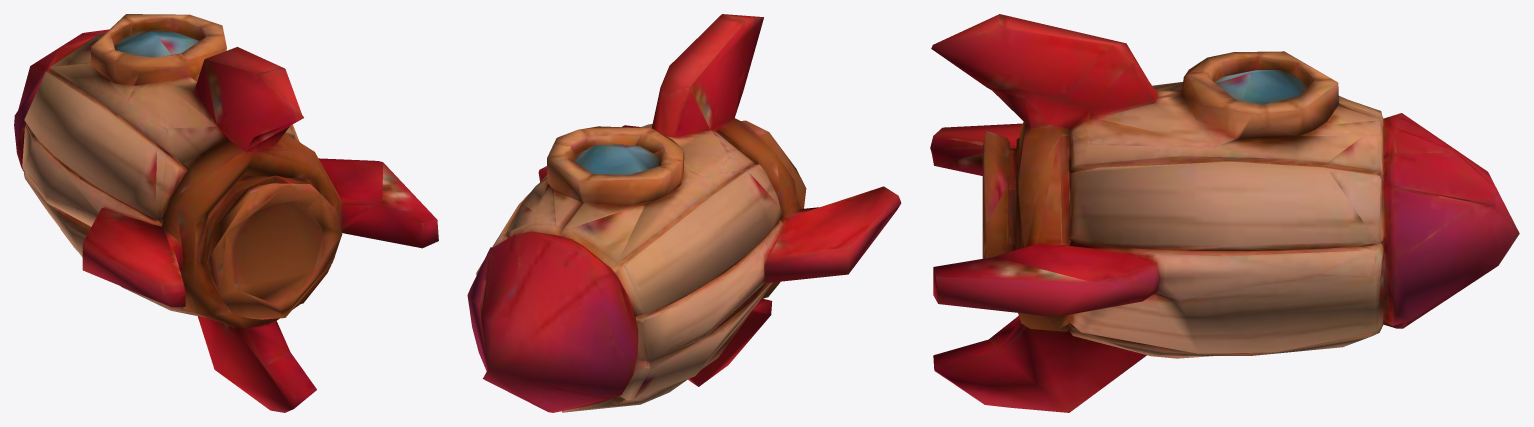
3 renders of one model, left to right at view 1: azimuth 30°, elevation 25°; view 2: azimuth 150°, elevation 25°; view 3: azimuth 270°, elevation 25°, orthographic. The views are drawn at different scales.
Visible parts, largest first — view 1: material; view 2: material; view 3: material.
Boxes of the visible parts, <box> form: material: <box>14,14,438,412</box>; material: <box>467,14,901,412</box>; material: <box>930,14,1519,412</box>.
Size of the model in its own units: 0.6906 by 0.7226 by 1.
1 material, 1 textured.
